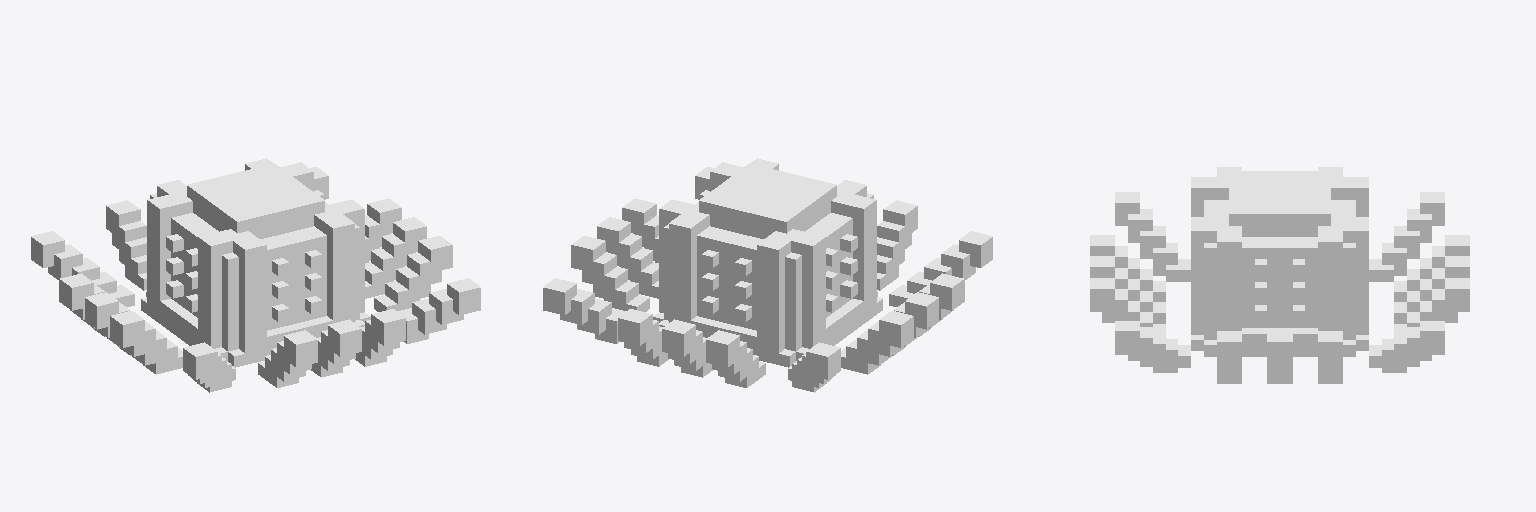
File: fort_lowLevel-1.obj
3 views of the same model, side by side, from view 1: azimuth 30°, elevation 25°; view 2: azimuth 150°, elevation 25°; view 3: azimuth 270°, elevation 25° (orthographic).
Visible parts, largest first — view 1: object 1; view 2: object 1; view 3: object 1.
Part boxes in pixels (left/top/right/bottom): object 1: left=31, top=158, right=480, bottom=392; object 1: left=543, top=158, right=992, bottom=392; object 1: left=1090, top=167, right=1469, bottom=383.
Size of the model in its own units: 3 by 1.1 by 3.